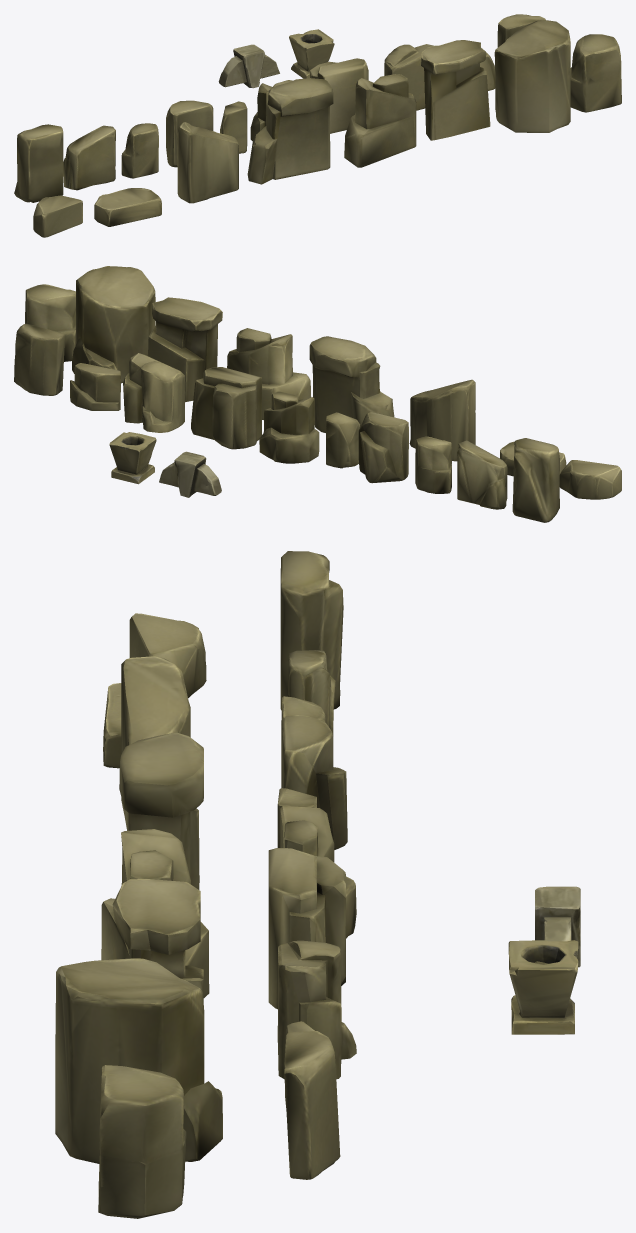
Rendered from Stones.FBX.
3 renders of one model, top to bottom at view 1: azimuth 30°, elevation 25°; view 2: azimuth 150°, elevation 25°; view 3: azimuth 270°, elevation 25°, orthographic. The views are drawn at different scales.
Parts seen in each view (by area): view 1: L_rock_01_max, L_rock_05_max, L_rock_02_max, L_rock_03_max, L_rock_06_max, rock_03_max002, rock_01_max, rock_02_max, rock_07_max, L_rock_04_max, rock_03_max, WallE (+8 smaller); view 2: L_rock_01_max, L_rock_05_max, rock_07_max, L_rock_02_max, rocks_Small_004, L_rock_03_max, L_rock_06_max, rock_01_max, rock_06_max, rock_04_max, rock_09_max, rock_02_max (+8 smaller); view 3: L_rock_01_max, rock_03_max002, L_rock_05_max, rock_07_max, rock_09_max, L_rock_02_max, rock_01_max, rocks_Small_004, stairsL, rock_04_max, L_rock_06_max, L_rock_03_max (+5 smaller).
Boxes of the visible parts, left/top/right/bottom form: L_rock_01_max: left=494, top=20, right=570, bottom=132; L_rock_05_max: left=247, top=78, right=333, bottom=184; L_rock_02_max: left=421, top=40, right=490, bottom=140; L_rock_03_max: left=344, top=74, right=416, bottom=167; L_rock_06_max: left=177, top=122, right=238, bottom=203; rock_03_max002: left=570, top=34, right=621, bottom=112; rock_01_max: left=14, top=124, right=63, bottom=202; rock_02_max: left=63, top=125, right=115, bottom=190; rock_07_max: left=310, top=58, right=368, bottom=133; L_rock_04_max: left=94, top=188, right=161, bottom=226; rock_03_max: left=121, top=123, right=158, bottom=178; WallE: left=218, top=44, right=279, bottom=88; L_rock_01_max: left=72, top=266, right=155, bottom=383; L_rock_05_max: left=309, top=336, right=394, bottom=432; rock_07_max: left=191, top=367, right=261, bottom=449; L_rock_02_max: left=148, top=297, right=222, bottom=402; rocks_Small_004: left=123, top=353, right=184, bottom=432; L_rock_03_max: left=227, top=328, right=310, bottom=419; L_rock_06_max: left=409, top=379, right=475, bottom=461; rock_01_max: left=512, top=438, right=559, bottom=522; rock_06_max: left=259, top=391, right=319, bottom=463; rock_04_max: left=358, top=412, right=408, bottom=483; rock_09_max: left=14, top=323, right=64, bottom=395; rock_02_max: left=457, top=440, right=507, bottom=509; L_rock_01_max: left=55, top=958, right=222, bottom=1163; rock_03_max002: left=98, top=1065, right=186, bottom=1218; L_rock_05_max: left=119, top=732, right=203, bottom=889; rock_07_max: left=268, top=848, right=345, bottom=1009; rock_09_max: left=284, top=1031, right=340, bottom=1179; L_rock_02_max: left=112, top=879, right=203, bottom=1000; rock_01_max: left=280, top=551, right=343, bottom=710; rocks_Small_004: left=277, top=940, right=356, bottom=1079; stairsL: left=508, top=940, right=578, bottom=1034; rock_04_max: left=281, top=715, right=347, bottom=849; L_rock_06_max: left=121, top=656, right=190, bottom=830; L_rock_03_max: left=101, top=829, right=209, bottom=997.
Size of the model in its own units: 3462 by 481 by 1366.
